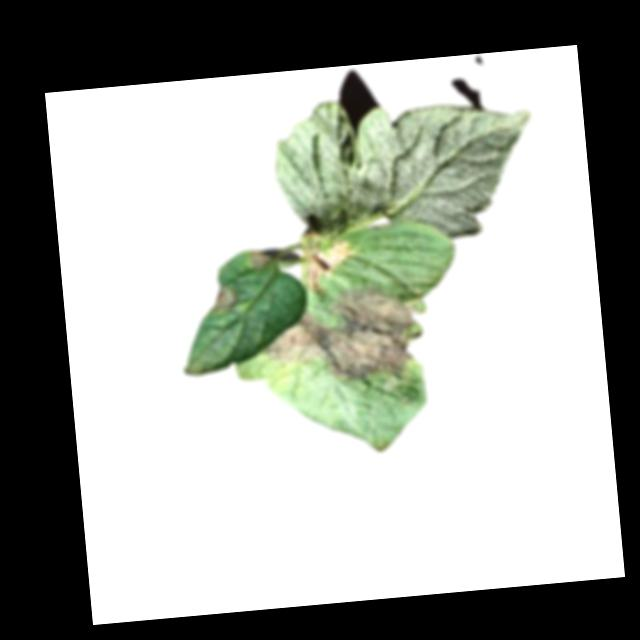Late_blight: (254, 283, 435, 392), (302, 239, 358, 295), (207, 284, 240, 317), (248, 249, 274, 270)
healthy: (268, 84, 542, 254)
